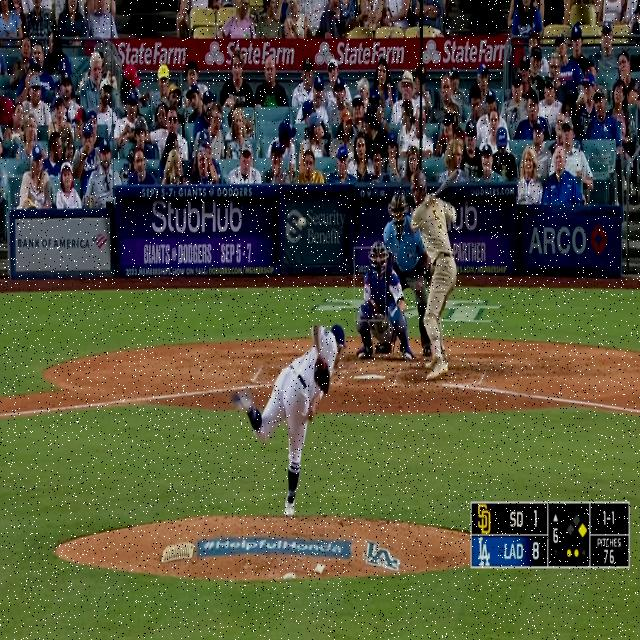baseball: (298, 216, 306, 228)
